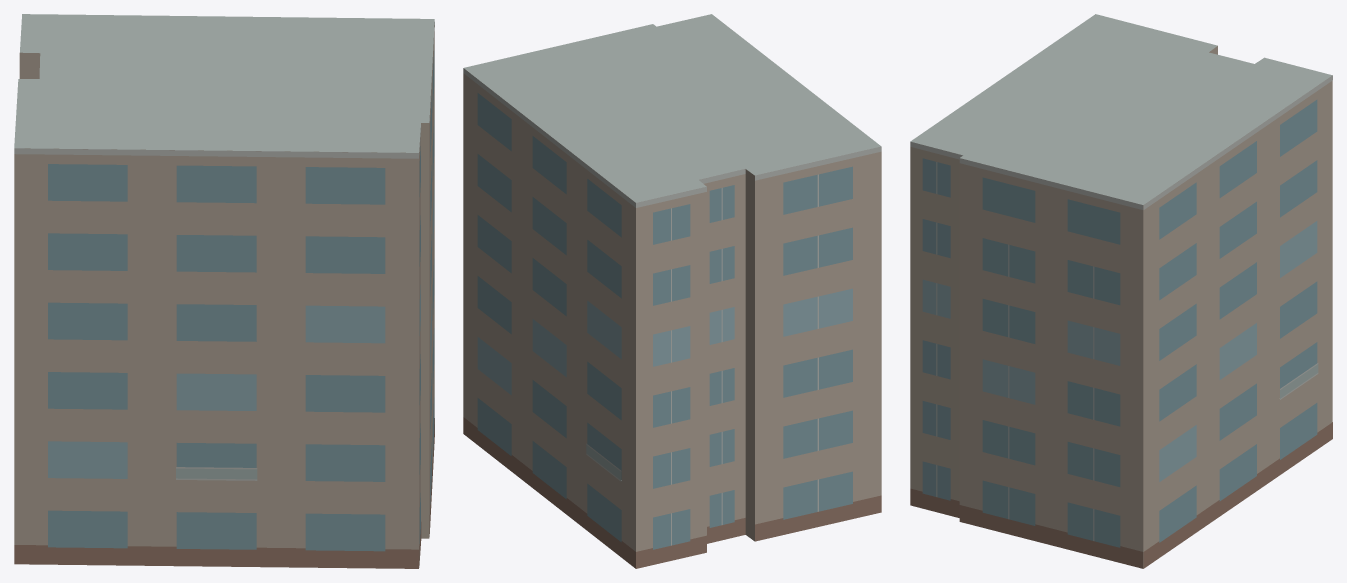
Rendered from survey-upis-32973755.glb.
The picture shows the model from 3 angles, left to right: view 1: azimuth 30°, elevation 25°; view 2: azimuth 150°, elevation 25°; view 3: azimuth 270°, elevation 25°; orthographic projection. The views are drawn at different scales.
Parts seen in each view (by area): view 1: survey-upis-32973755.tmp; view 2: survey-upis-32973755.tmp; view 3: survey-upis-32973755.tmp.
Boxes of the visible parts, x1=… form: survey-upis-32973755.tmp: x1=14, y1=14, x2=434, y2=568; survey-upis-32973755.tmp: x1=463, y1=14, x2=881, y2=568; survey-upis-32973755.tmp: x1=910, y1=14, x2=1332, y2=568.
Size of the model in its own units: 19.51 by 17.3 by 18.22.
